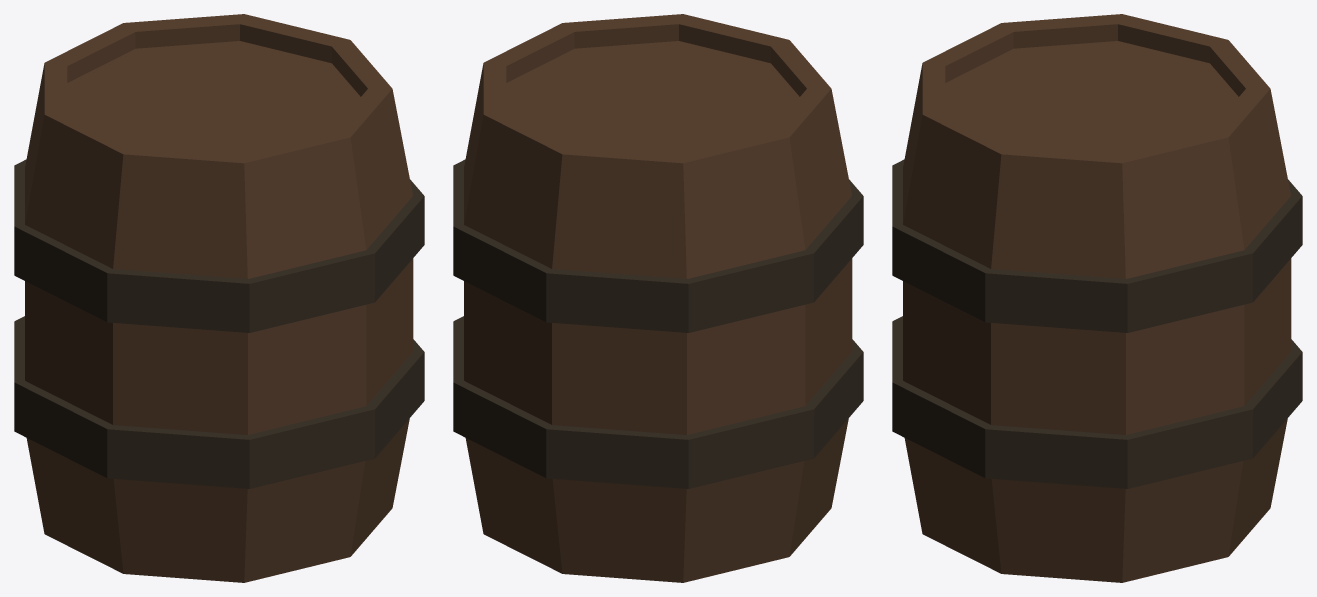
The model's file is Faded Brown Two Ringed Barrel.fbx.
The picture shows the model from 3 angles, left to right: view 1: azimuth 30°, elevation 25°; view 2: azimuth 150°, elevation 25°; view 3: azimuth 270°, elevation 25°; orthographic projection.
Visible parts, largest first — view 1: Faded Brown Two Ringed Barrel; view 2: Faded Brown Two Ringed Barrel; view 3: Faded Brown Two Ringed Barrel.
Boxes of the visible parts, x1,y1,x2,y2 form: Faded Brown Two Ringed Barrel: [14, 14, 424, 582]; Faded Brown Two Ringed Barrel: [453, 14, 863, 582]; Faded Brown Two Ringed Barrel: [892, 14, 1302, 582].
Bounding box in the file's own units: 180 × 200 × 177.
